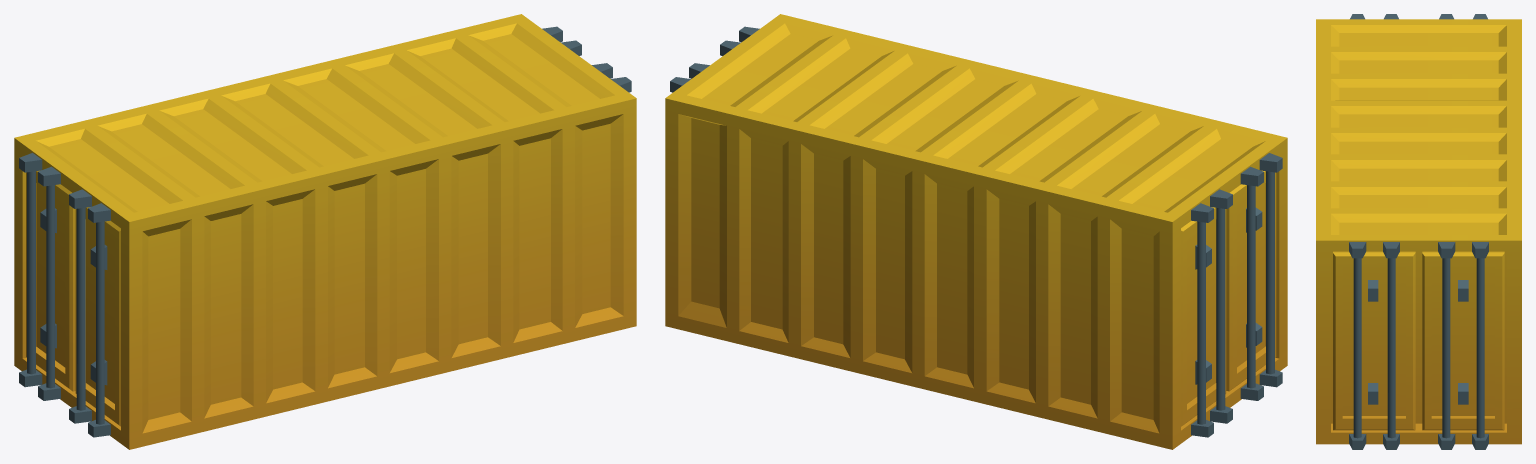
File: CC_Yelllow.fbx
3 renders of one model, left to right at view 1: azimuth 30°, elevation 25°; view 2: azimuth 150°, elevation 25°; view 3: azimuth 270°, elevation 25°, orthographic. The views are drawn at different scales.
Visible parts, largest first — view 1: CC_Yelllow; view 2: CC_Yelllow; view 3: CC_Yelllow.
Part boxes in pixels (left/top/right/bottom): CC_Yelllow: left=14, top=14, right=636, bottom=449; CC_Yelllow: left=665, top=14, right=1287, bottom=449; CC_Yelllow: left=1316, top=14, right=1521, bottom=449.
Bounding box in the file's own units: 648 × 262 × 240.
